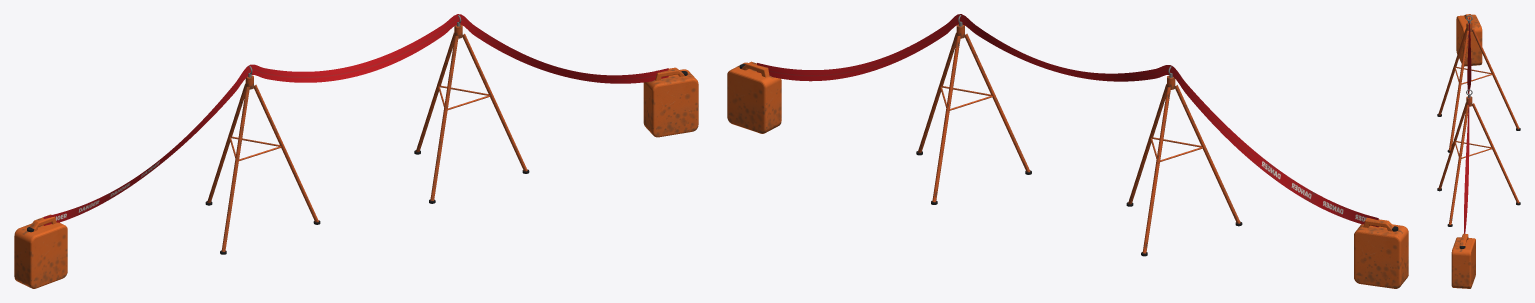
The model's file is SM_AEE_P04_Balisage.glb.
3 renders of one model, left to right at view 1: azimuth 30°, elevation 25°; view 2: azimuth 150°, elevation 25°; view 3: azimuth 270°, elevation 25°, orthographic. The views are drawn at different scales.
Visible parts, largest first — view 1: SM_AEE_P04_03_BANDEROLE_DANGER_1, SM_AEE_P04_02_BIDON_DE_PLASTIQUE_20_L_2, SM_AEE_P04_02_BIDON_DE_PLASTIQUE_20_L_1, SM_AEE_P04_01_TREPIED_DE_BALISAGE_1, SM_AEE_P04_01_TREPIED_DE_BALISAGE_2; view 2: SM_AEE_P04_03_BANDEROLE_DANGER_1, SM_AEE_P04_02_BIDON_DE_PLASTIQUE_20_L_1, SM_AEE_P04_02_BIDON_DE_PLASTIQUE_20_L_2, SM_AEE_P04_01_TREPIED_DE_BALISAGE_2, SM_AEE_P04_01_TREPIED_DE_BALISAGE_1; view 3: SM_AEE_P04_01_TREPIED_DE_BALISAGE_2, SM_AEE_P04_01_TREPIED_DE_BALISAGE_1, SM_AEE_P04_02_BIDON_DE_PLASTIQUE_20_L_2, SM_AEE_P04_02_BIDON_DE_PLASTIQUE_20_L_1, SM_AEE_P04_03_BANDEROLE_DANGER_1.
Part boxes in pixels (<box>): SM_AEE_P04_03_BANDEROLE_DANGER_1: <box>43,14,668,225</box>; SM_AEE_P04_02_BIDON_DE_PLASTIQUE_20_L_2: <box>643,67,698,137</box>; SM_AEE_P04_02_BIDON_DE_PLASTIQUE_20_L_1: <box>14,214,67,288</box>; SM_AEE_P04_01_TREPIED_DE_BALISAGE_1: <box>205,66,320,254</box>; SM_AEE_P04_01_TREPIED_DE_BALISAGE_2: <box>414,15,529,203</box>; SM_AEE_P04_03_BANDEROLE_DANGER_1: <box>757,14,1378,227</box>; SM_AEE_P04_02_BIDON_DE_PLASTIQUE_20_L_1: <box>1354,217,1408,288</box>; SM_AEE_P04_02_BIDON_DE_PLASTIQUE_20_L_2: <box>727,61,781,133</box>; SM_AEE_P04_01_TREPIED_DE_BALISAGE_2: <box>916,15,1031,204</box>; SM_AEE_P04_01_TREPIED_DE_BALISAGE_1: <box>1126,66,1242,256</box>; SM_AEE_P04_01_TREPIED_DE_BALISAGE_2: <box>1437,89,1520,226</box>; SM_AEE_P04_01_TREPIED_DE_BALISAGE_1: <box>1437,15,1520,152</box>; SM_AEE_P04_02_BIDON_DE_PLASTIQUE_20_L_2: <box>1451,233,1475,288</box>; SM_AEE_P04_02_BIDON_DE_PLASTIQUE_20_L_1: <box>1456,14,1482,66</box>; SM_AEE_P04_03_BANDEROLE_DANGER_1: <box>1464,16,1471,233</box>.
Size of the model in its own units: 5.15 by 1.2 by 0.7619.
5 materials, 4 textured.
